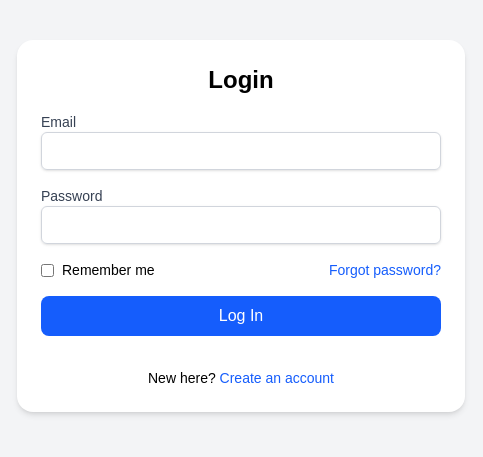
Test: Login Page › should show validation errors on submit with empty fields
What coordinates should you click on to do the following:
click the button "Log In"
I would click on:
 (241, 316)
Its box is [41, 296, 441, 336].
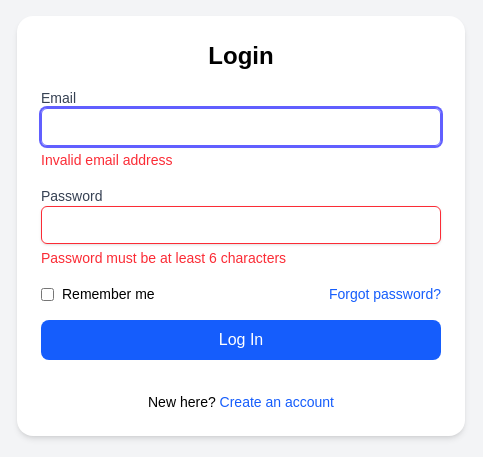
Now the text "Invalid email address" is shown, box [41, 152, 172, 168]
Now the text "Password must be at least 6 characters" is shown, box [41, 250, 286, 266]
